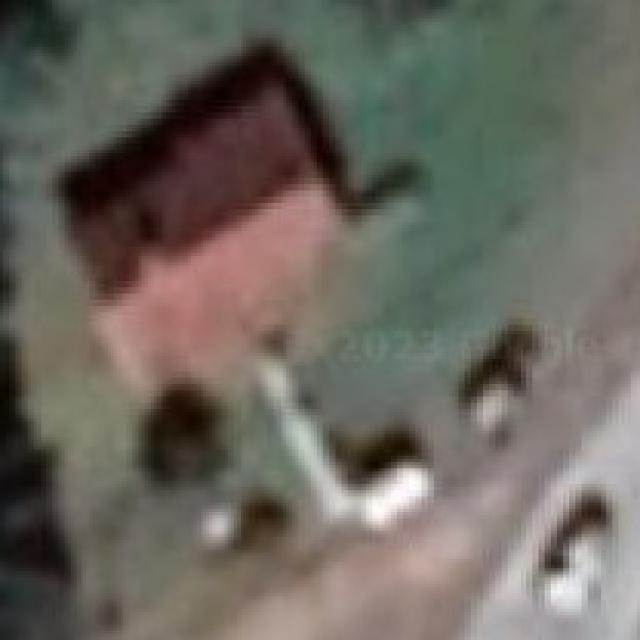Batiment: (64, 46, 341, 399)
